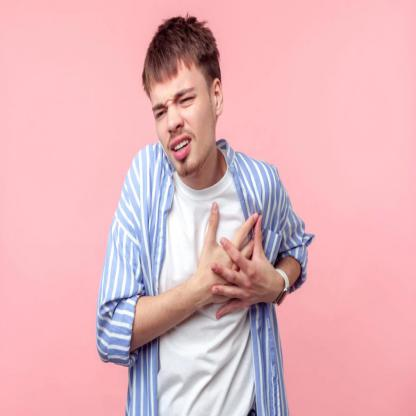pain: (152, 82, 200, 122)
